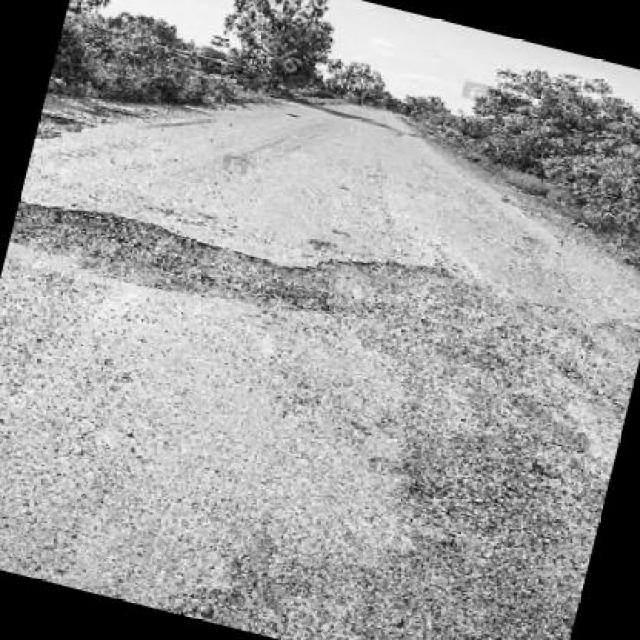pothole: (8, 188, 290, 322), (299, 232, 478, 356)
